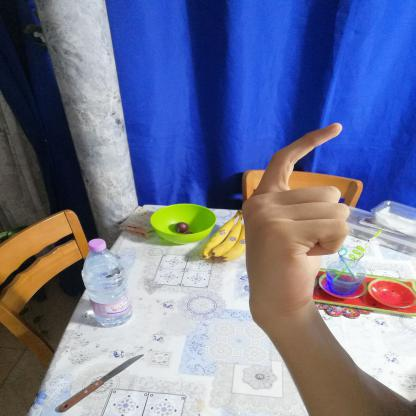RAA: (231, 113, 361, 327)
